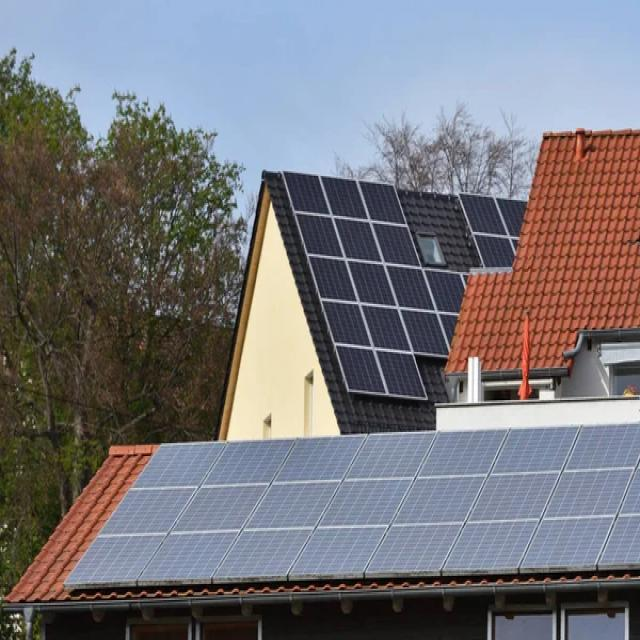clean-solar-panel: (281, 173, 529, 401)
